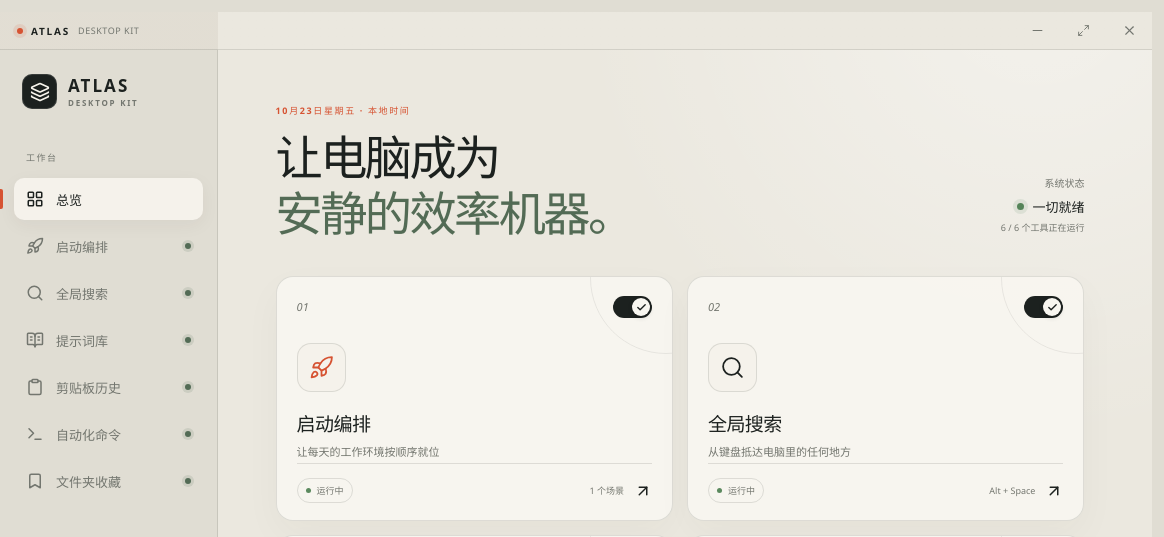
Atlas desktop toolkit › shows a persistent search-page warning when setup was deferred
The image size is (1164, 537).
Click the button "全局搜索" at [108, 293], box [14,272,203,314]
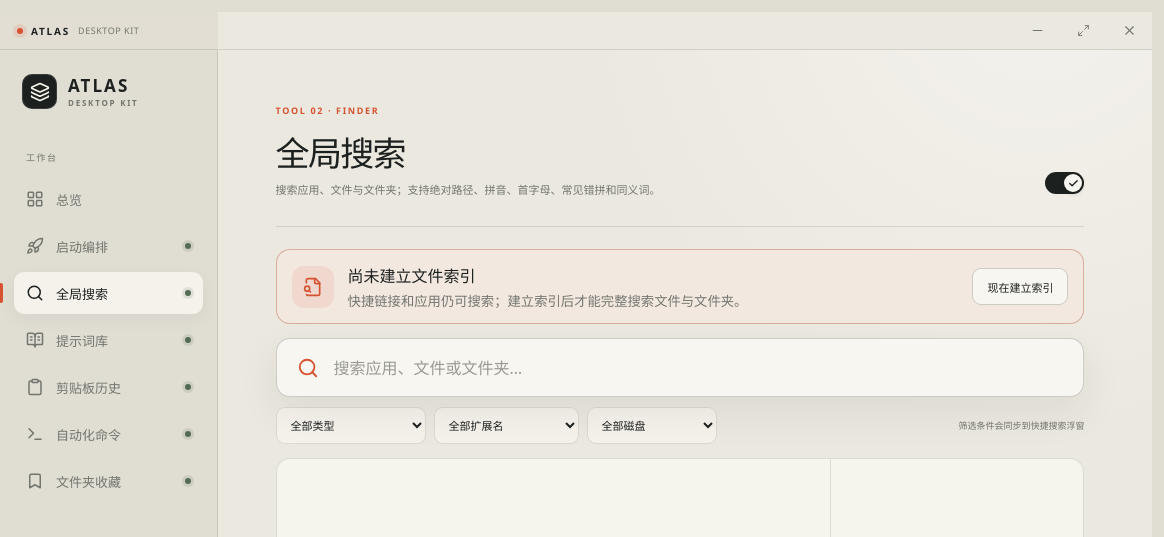
Expected: the text "尚未建立文件索引" is shown, [348,265,476,287]
Expected: the button "现在建立索引" is shown, [972,268,1068,305]
